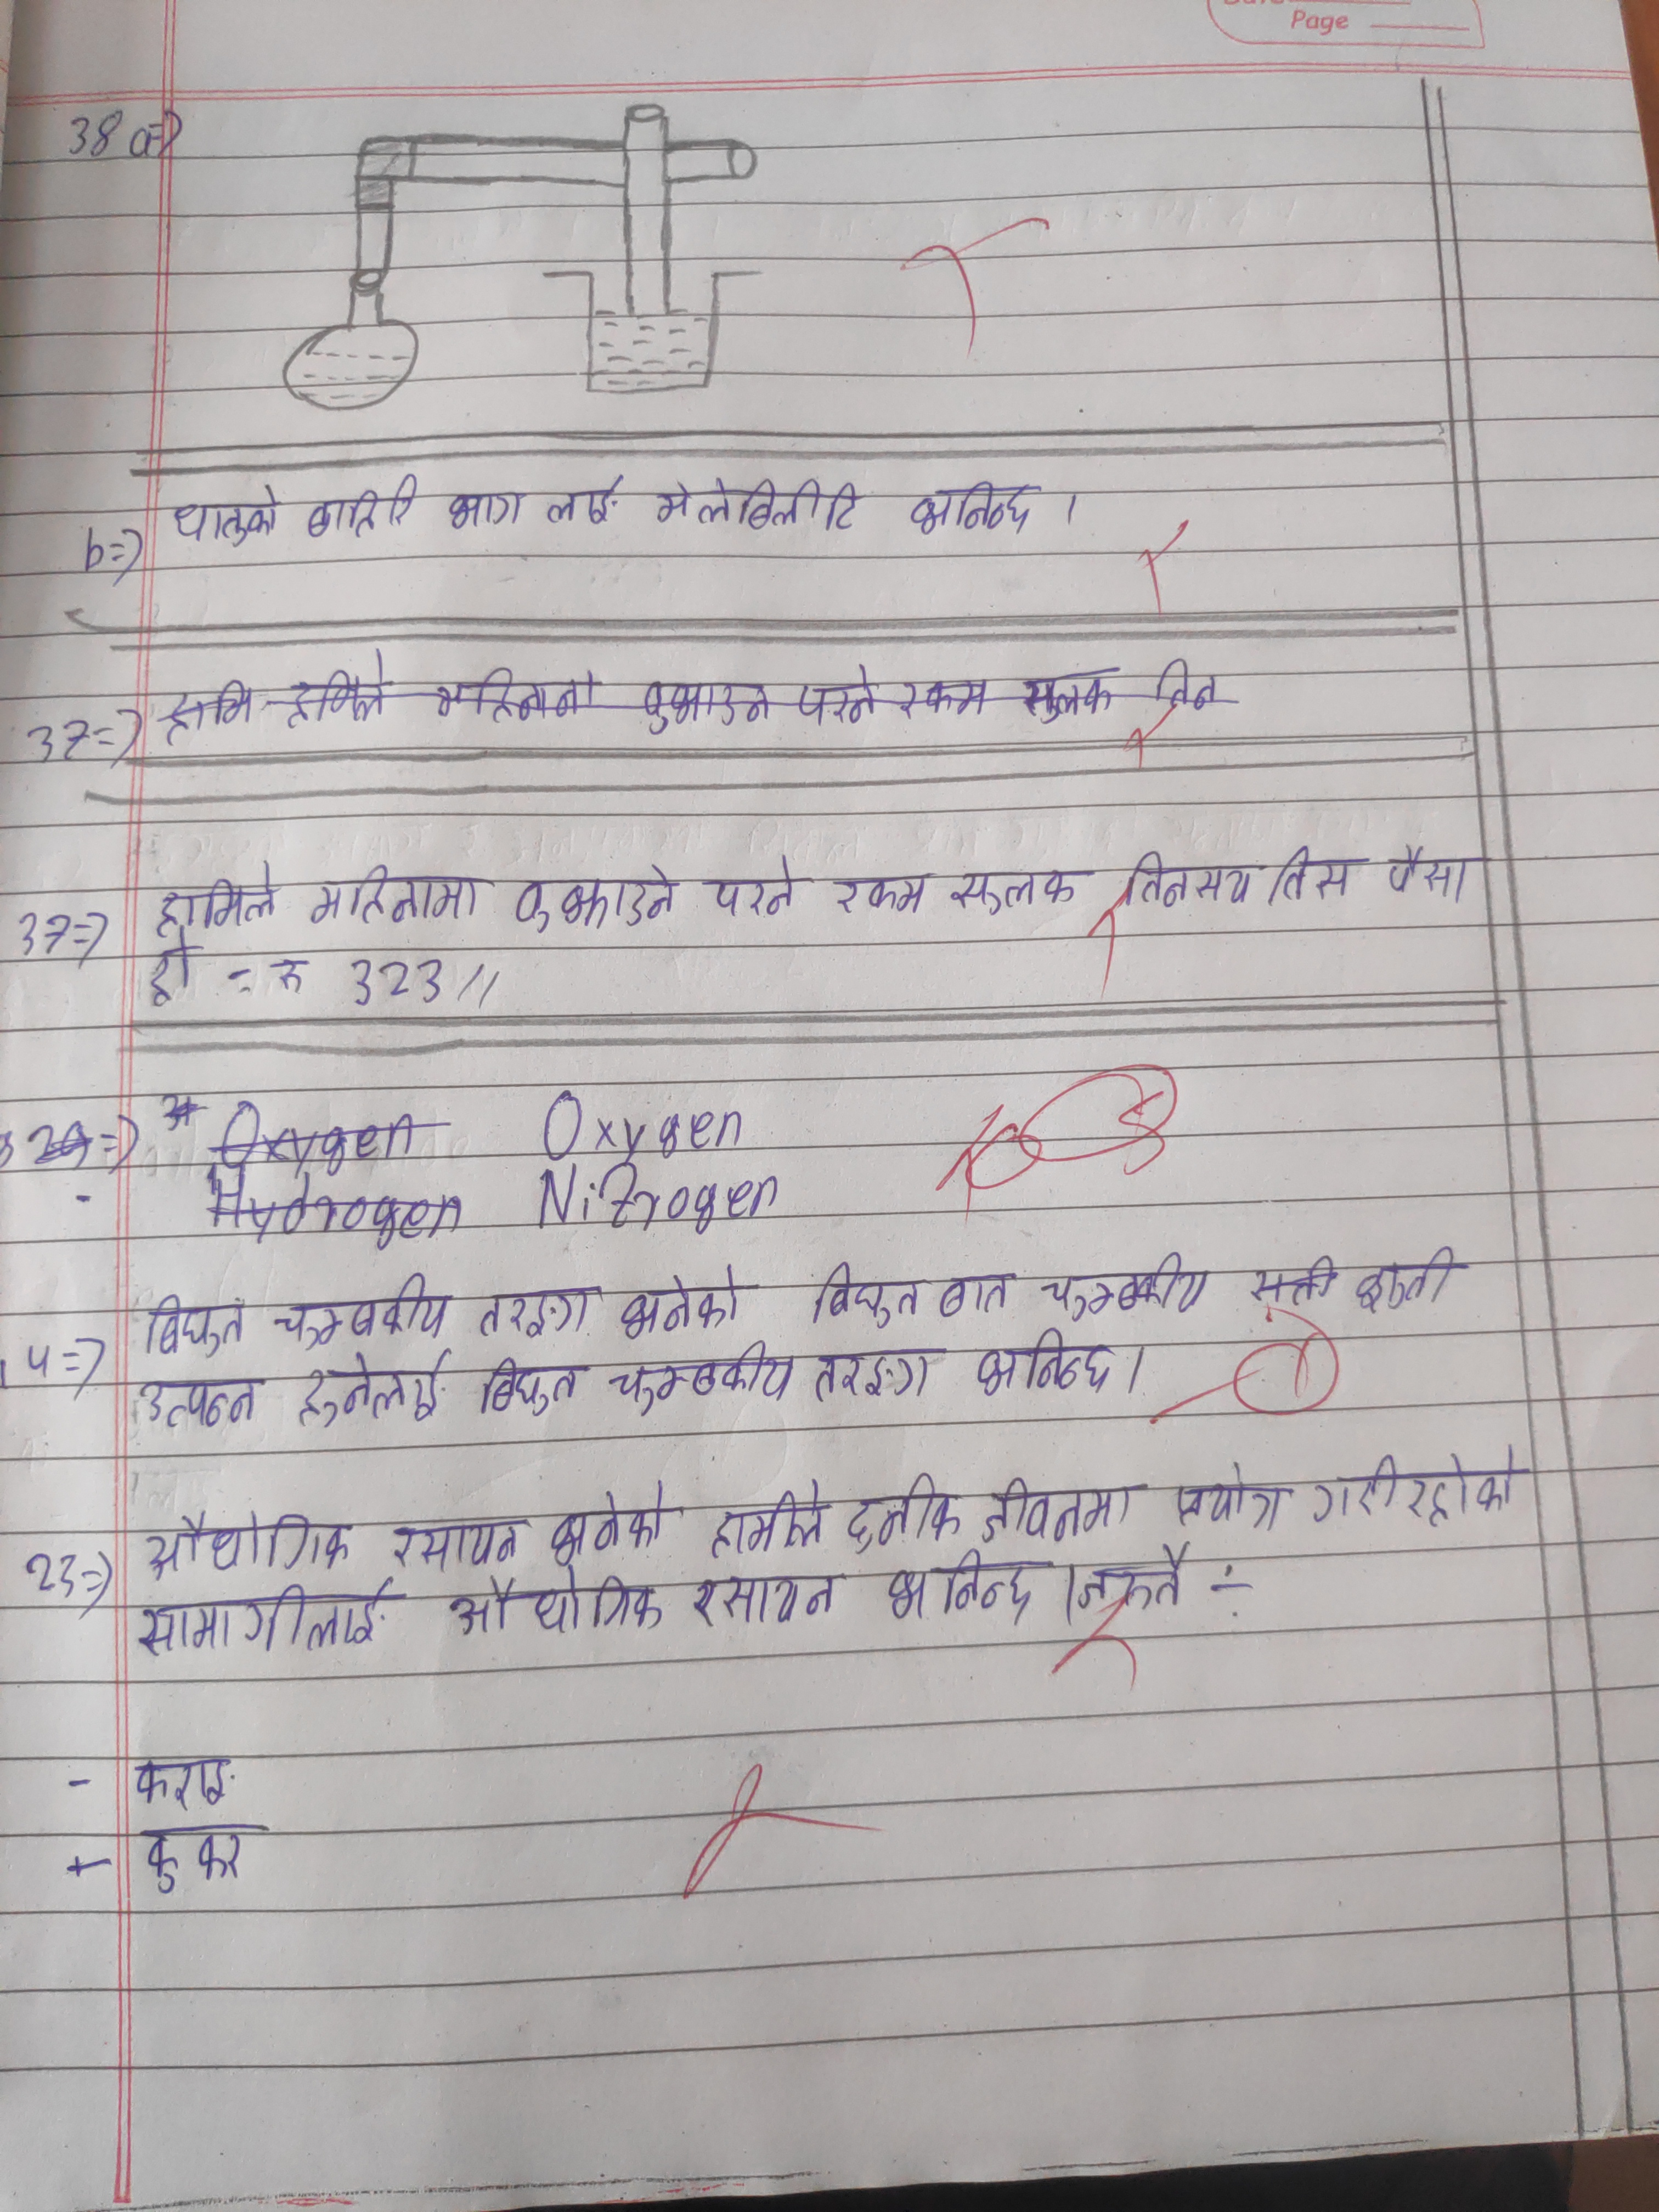text: (1305, 1449, 1532, 1529), (131, 1585, 390, 1653), (444, 1564, 669, 1637), (141, 1510, 361, 1576), (270, 1270, 451, 1346), (657, 474, 870, 538), (976, 1468, 1138, 1550), (1042, 1251, 1213, 1327), (615, 1346, 798, 1418), (289, 1357, 462, 1430), (512, 859, 683, 932), (305, 862, 488, 928), (964, 1327, 1121, 1402), (537, 1482, 683, 1562), (875, 1564, 1051, 1629), (847, 1468, 971, 1555), (432, 662, 613, 721), (708, 1477, 836, 1555), (688, 1569, 845, 1634), (134, 1820, 268, 1892), (153, 859, 284, 932), (1169, 1465, 1293, 1541), (613, 1273, 756, 1339), (1121, 846, 1258, 914), (904, 475, 1044, 542), (636, 672, 772, 738), (291, 648, 394, 735), (810, 1256, 924, 1334), (809, 1339, 946, 1402), (936, 862, 1094, 914), (380, 1515, 532, 1569), (477, 1360, 598, 1428), (1377, 838, 1490, 909), (1066, 1554, 1195, 1616), (138, 1374, 272, 1432), (1012, 662, 1126, 730), (303, 475, 422, 540), (162, 674, 268, 745), (169, 484, 282, 550), (1354, 1245, 1464, 1312), (894, 662, 1000, 730), (141, 1294, 251, 1357), (131, 1747, 240, 1810), (702, 857, 809, 920), (474, 1287, 599, 1339), (1272, 845, 1370, 909), (542, 469, 626, 531), (831, 873, 941, 920), (796, 669, 880, 726), (934, 1271, 1016, 1322), (443, 489, 526, 533)
